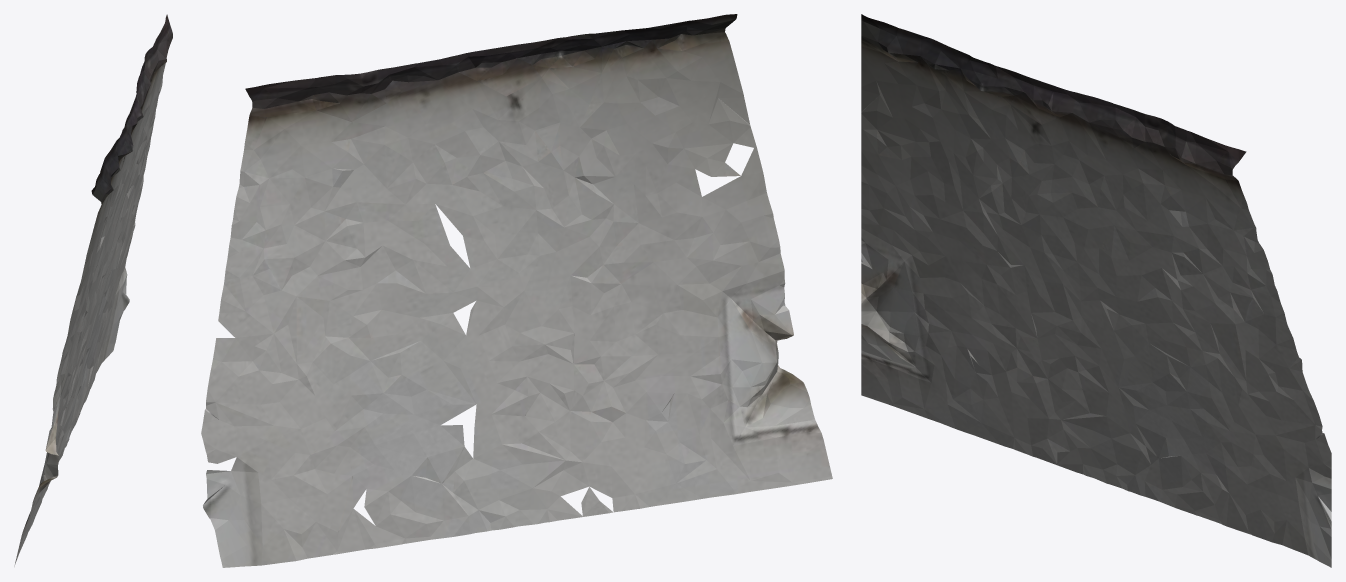
3 renders of one model, left to right at view 1: azimuth 30°, elevation 25°; view 2: azimuth 150°, elevation 25°; view 3: azimuth 270°, elevation 25°, orthographic. The views are drawn at different scales.
Size of the model in its own units: 0.7699 by 0.8374 by 0.8373.
Materials: 3 (3 with a texture image).
